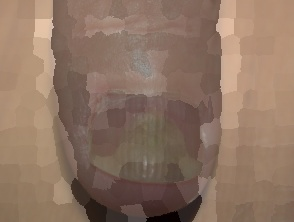Nail_psoriasis: (85, 93, 219, 222), (82, 76, 146, 126)
